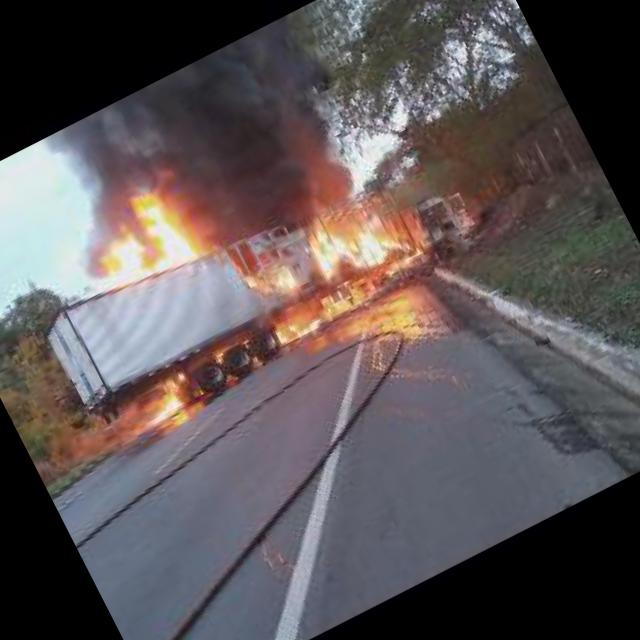fire: (86, 183, 202, 295), (302, 202, 409, 292), (274, 288, 354, 344), (139, 378, 191, 424), (268, 263, 300, 295), (242, 271, 260, 291), (402, 248, 424, 264)
smoke: (108, 5, 388, 268), (6, 105, 150, 238), (46, 198, 146, 274)
